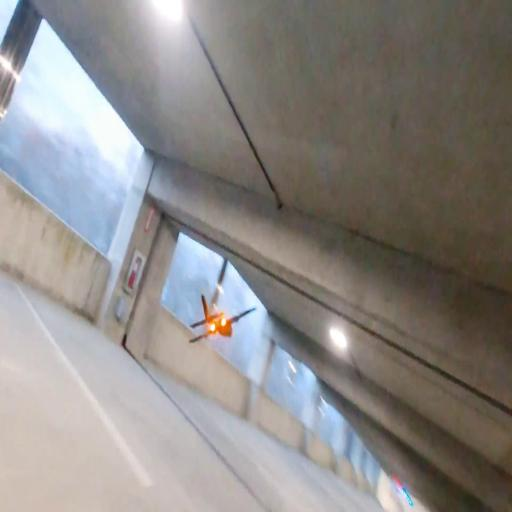uav: (187, 284, 259, 352)
